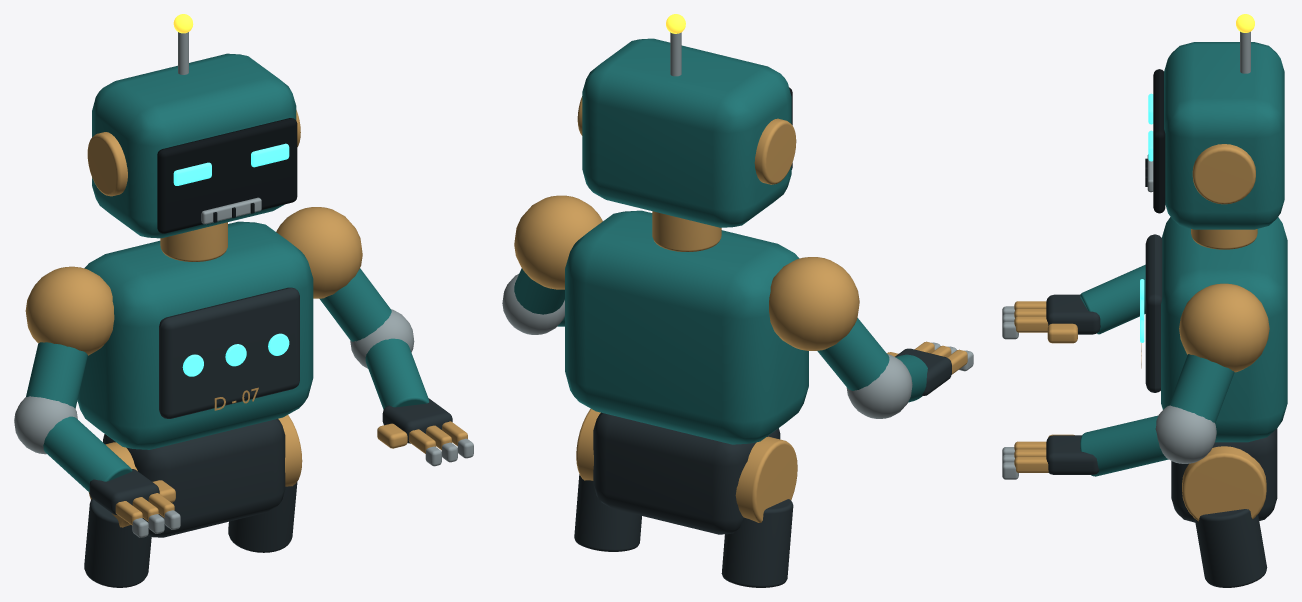
The model's file is dealer.glb.
3 views of the same model, side by side, from view 1: azimuth 30°, elevation 25°; view 2: azimuth 150°, elevation 25°; view 3: azimuth 270°, elevation 25° (orthographic). The views are drawn at different scales.
Parts seen in each view (by area): view 1: Torso, Head_shell, Chest_plate, Pelvis, Dark_face, Left_shoulder, Right_shoulder, Thigh, Left_forearm, Right_forearm, Left_upper, Right_upper (+12 smaller); view 2: Torso, Head_shell, Pelvis, Left_shoulder, Right_shoulder, Thigh, Hip_servo, Thigh.001, Left_upper, Left_elbow, Ear_disk, Neck_servo (+5 smaller); view 3: Head_shell, Torso, Right_shoulder, Hip_servo.001, Thigh.001, Right_forearm, Ear_disk.001, Right_upper, Right_elbow, Chest_plate, Left_forearm, Pelvis (+8 smaller).
Part boxes in pixels (x1=…): Torso: x1=77, y1=221, x2=313, y2=449; Head_shell: x1=92, y1=53, x2=296, y2=238; Chest_plate: x1=159, y1=287, x2=299, y2=418; Pelvis: x1=103, y1=418, x2=285, y2=537; Dark_face: x1=157, y1=118, x2=297, y2=233; Left_shoulder: x1=25, y1=266, x2=114, y2=355; Right_shoulder: x1=276, y1=207, x2=362, y2=298; Thigh: x1=84, y1=498, x2=151, y2=587; Left_forearm: x1=43, y1=416, x2=132, y2=492; Right_forearm: x1=365, y1=338, x2=429, y2=409; Left_upper: x1=26, y1=342, x2=87, y2=408; Right_upper: x1=319, y1=268, x2=391, y2=341; Torso: x1=565, y1=210, x2=808, y2=444; Head_shell: x1=582, y1=38, x2=791, y2=227; Pelvis: x1=593, y1=412, x2=780, y2=534; Left_shoulder: x1=769, y1=257, x2=859, y2=350; Right_shoulder: x1=514, y1=195, x2=602, y2=289; Thigh: x1=721, y1=499, x2=793, y2=587; Hip_servo: x1=735, y1=436, x2=797, y2=522; Thigh.001: x1=574, y1=474, x2=641, y2=551; Left_upper: x1=817, y1=318, x2=889, y2=390; Left_elbow: x1=846, y1=354, x2=912, y2=418; Ear_disk: x1=754, y1=118, x2=796, y2=184; Neck_servo: x1=652, y1=211, x2=721, y2=251; Head_shell: x1=1164, y1=42, x2=1284, y2=229; Torso: x1=1161, y1=217, x2=1287, y2=442; Right_shoulder: x1=1179, y1=283, x2=1269, y2=372; Hip_servo.001: x1=1182, y1=446, x2=1266, y2=521; Thigh.001: x1=1195, y1=509, x2=1267, y2=587; Right_forearm: x1=1080, y1=415, x2=1168, y2=476; Ear_disk.001: x1=1192, y1=144, x2=1255, y2=204; Right_upper: x1=1168, y1=354, x2=1234, y2=423; Right_elbow: x1=1155, y1=405, x2=1216, y2=463; Chest_plate: x1=1145, y1=234, x2=1162, y2=392; Left_forearm: x1=1080, y1=264, x2=1145, y2=334; Pelvis: x1=1171, y1=428, x2=1277, y2=522.
Size of the model in its own units: 1.47 by 1.94 by 0.9455.
